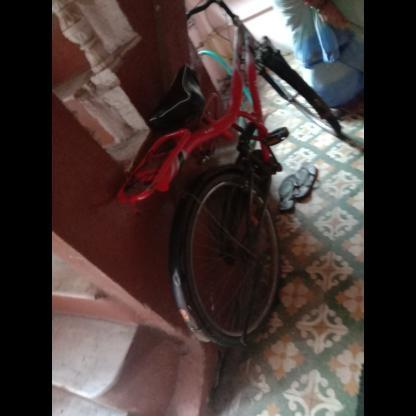Bicycle: (110, 2, 346, 361)
